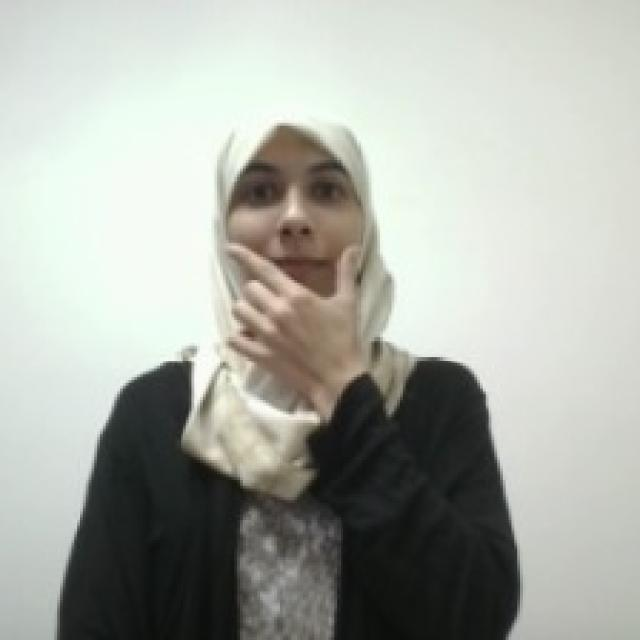smile: (220, 233, 366, 368)
